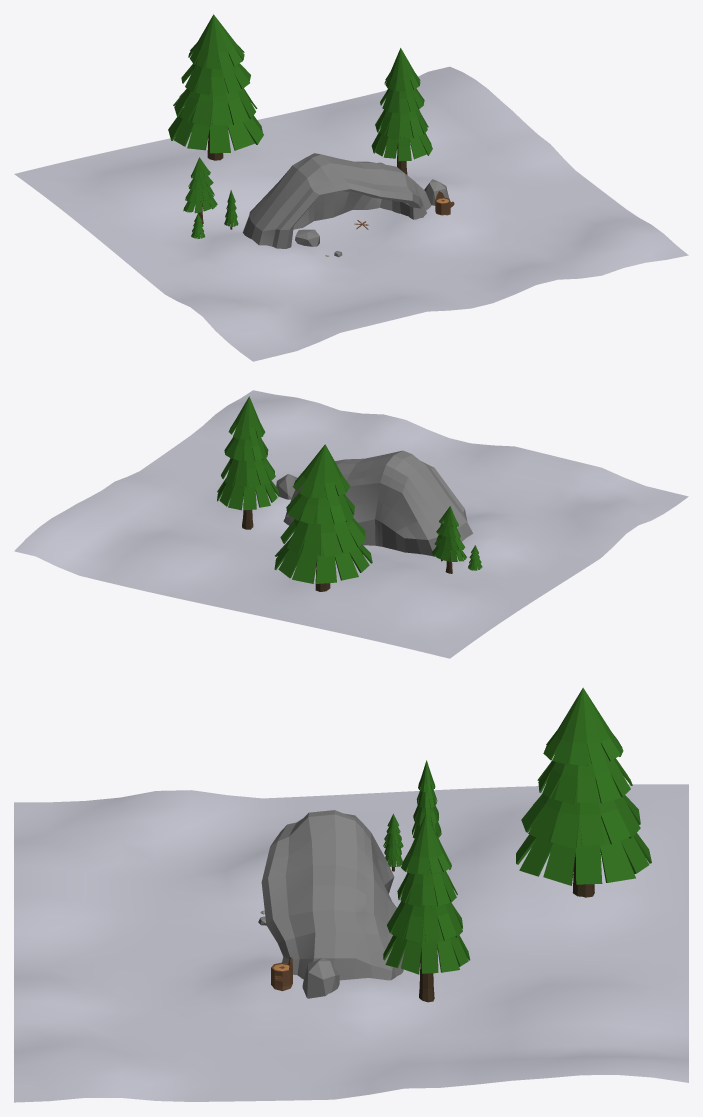
Rendered from SnowScene.fbx.
The picture shows the model from 3 angles, top to bottom: view 1: azimuth 30°, elevation 25°; view 2: azimuth 150°, elevation 25°; view 3: azimuth 270°, elevation 25°; orthographic projection. The views are drawn at different scales.
Visible parts, largest first — view 1: Snow, RockCave, Tree5, Tree3, Tree4; view 2: Snow, RockCave, Tree5, Tree3, Tree4; view 3: Snow, RockCave, Tree5, Tree3, Rock4, Tree4, Tree6.
Boxes of the visible parts, left/top/right/bottom form: Snow: left=14, top=66, right=688, bottom=361; RockCave: left=242, top=153, right=431, bottom=248; Tree5: left=168, top=14, right=263, bottom=160; Tree3: left=371, top=48, right=432, bottom=174; Tree4: left=183, top=157, right=217, bottom=223; Snow: left=14, top=390, right=688, bottom=658; RockCave: left=283, top=450, right=472, bottom=556; Tree5: left=274, top=444, right=372, bottom=591; Tree3: left=217, top=396, right=279, bottom=529; Tree4: left=431, top=506, right=466, bottom=573; Snow: left=14, top=784, right=688, bottom=1102; RockCave: left=261, top=810, right=405, bottom=980; Tree5: left=516, top=687, right=651, bottom=897; Tree3: left=383, top=813, right=470, bottom=1002; Rock4: left=302, top=957, right=339, bottom=998; Tree4: left=412, top=760, right=441, bottom=838; Tree6: left=384, top=814, right=402, bottom=871.
Bounding box in the file's own units: 54.39 × 19.54 × 51.67.
